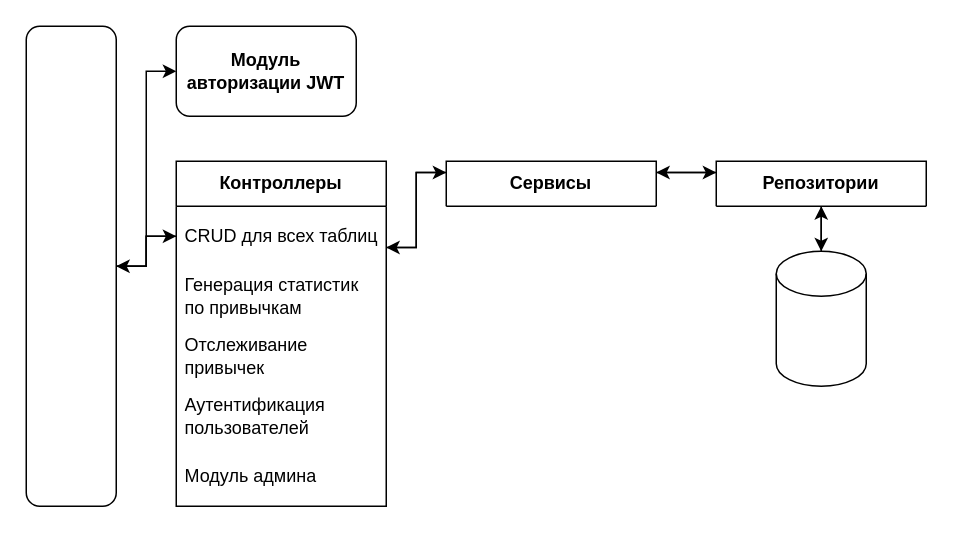
The diagram is 953 pixels wide and 533 high, and some of its shapes have lost their labels. The centre of each missing label's shape, as x and y in pixels:
"База данных" belongs at [820,318].
"Веб клиент приложения" belongs at [70,265].
